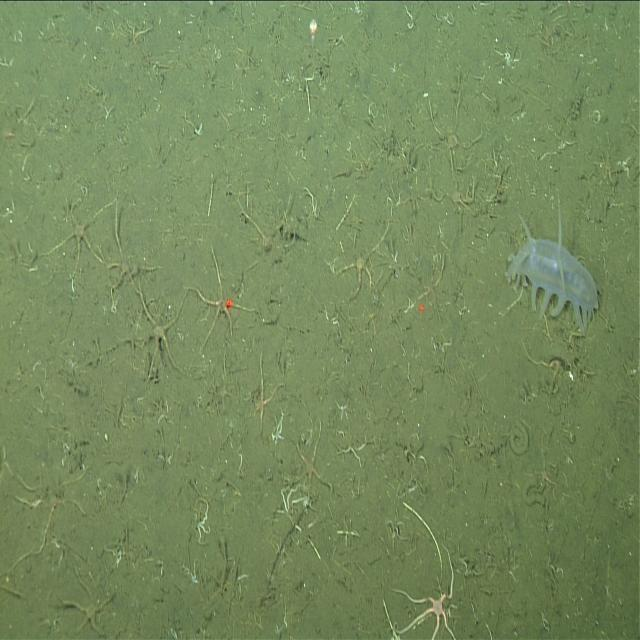Brittle Star: (182, 243, 262, 356), (42, 189, 119, 282), (20, 460, 92, 552), (522, 315, 585, 394), (392, 568, 461, 636), (57, 565, 117, 637), (333, 235, 384, 298), (244, 360, 284, 435), (0, 536, 35, 618), (292, 428, 330, 491)
Not Brittle Star: (503, 191, 602, 338)
